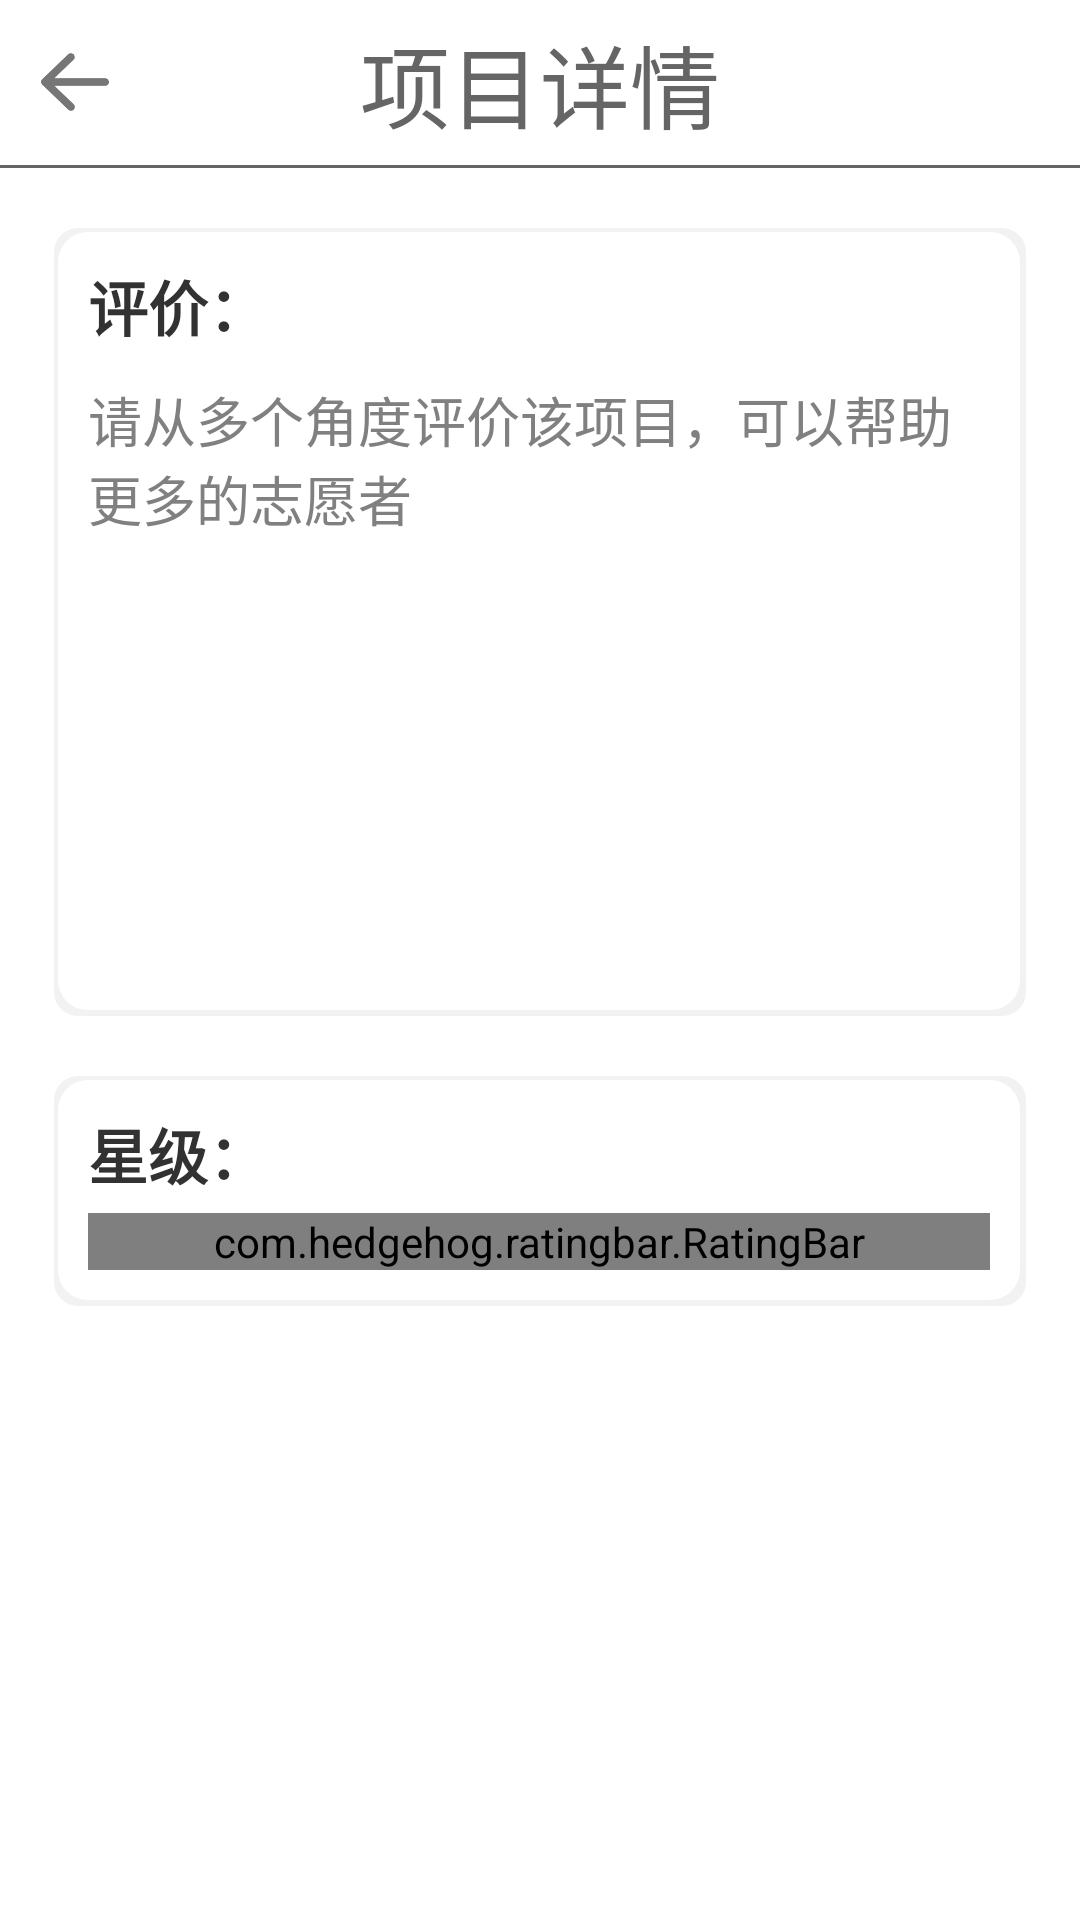

Icons on this 1080px×1920px Android screen, each with the point to tap as (x=x, y=y):
arrowleftblack: (x=75, y=82)
